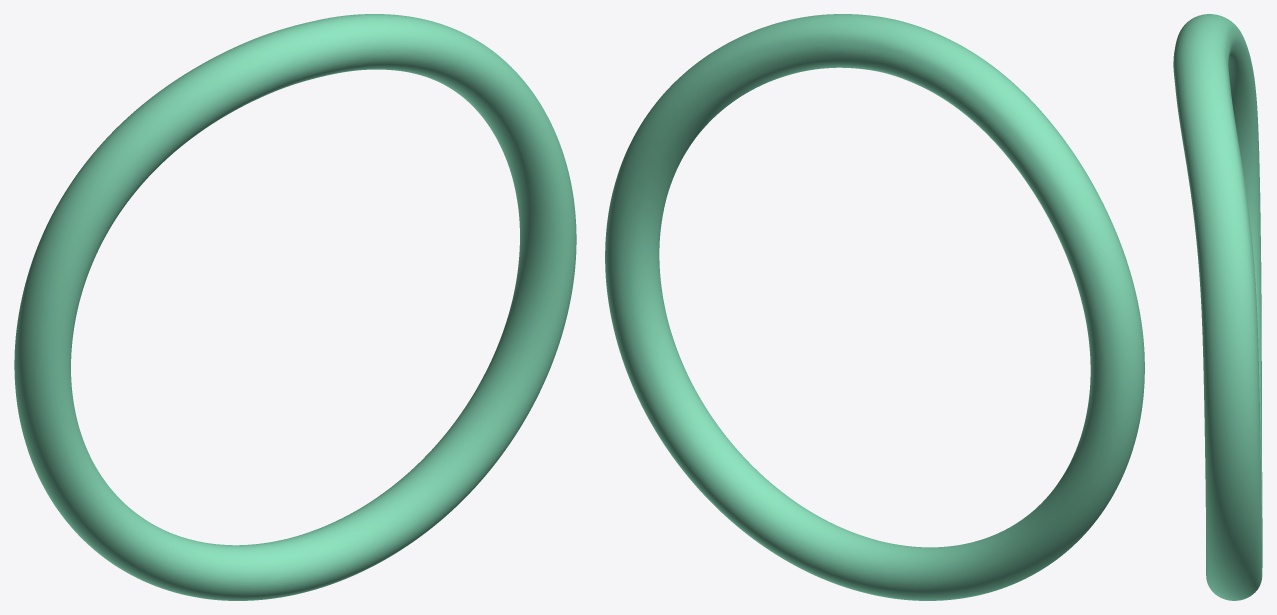
The picture shows the model from 3 angles, left to right: view 1: azimuth 30°, elevation 25°; view 2: azimuth 150°, elevation 25°; view 3: azimuth 270°, elevation 25°; orthographic projection. The views are drawn at different scales.
Parts seen in each view (by area): view 1: Metal03; view 2: Metal03; view 3: Metal03.
Part boxes in pixels (<box>): Metal03: <box>14,14,576,600</box>; Metal03: <box>605,14,1144,600</box>; Metal03: <box>1173,14,1262,600</box>.
Bounding box in the file's own units: 20.9 × 20.9 × 3.17.
